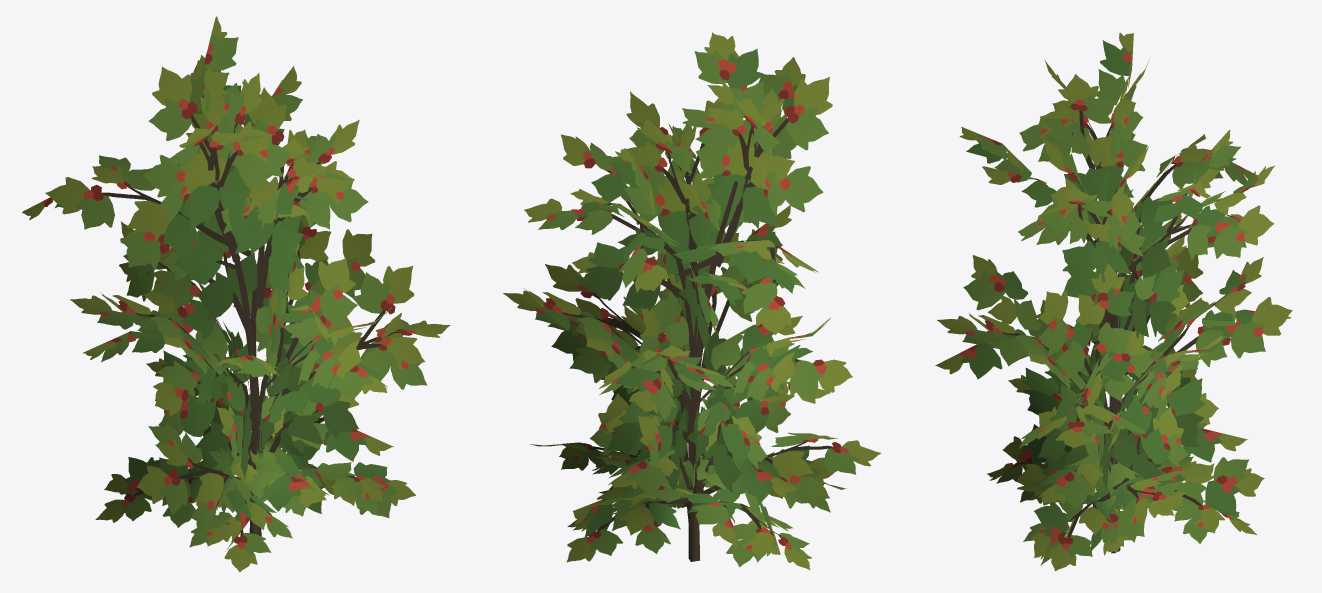
Rendered from SM_Env_Bush_02.fbx.
3 renders of one model, left to right at view 1: azimuth 30°, elevation 25°; view 2: azimuth 150°, elevation 25°; view 3: azimuth 270°, elevation 25°, orthographic. The views are drawn at different scales.
Parts seen in each view (by area): view 1: SM_Env_Bush_02_LOD0; view 2: SM_Env_Bush_02_LOD0; view 3: SM_Env_Bush_02_LOD0.
Part boxes in pixels (box(x1,y1,x2,y2)): SM_Env_Bush_02_LOD0: box(22, 16, 450, 572); SM_Env_Bush_02_LOD0: box(503, 32, 880, 569); SM_Env_Bush_02_LOD0: box(935, 32, 1292, 571).
Size of what is drawn, in the model's own units: 143 by 206 by 140.
